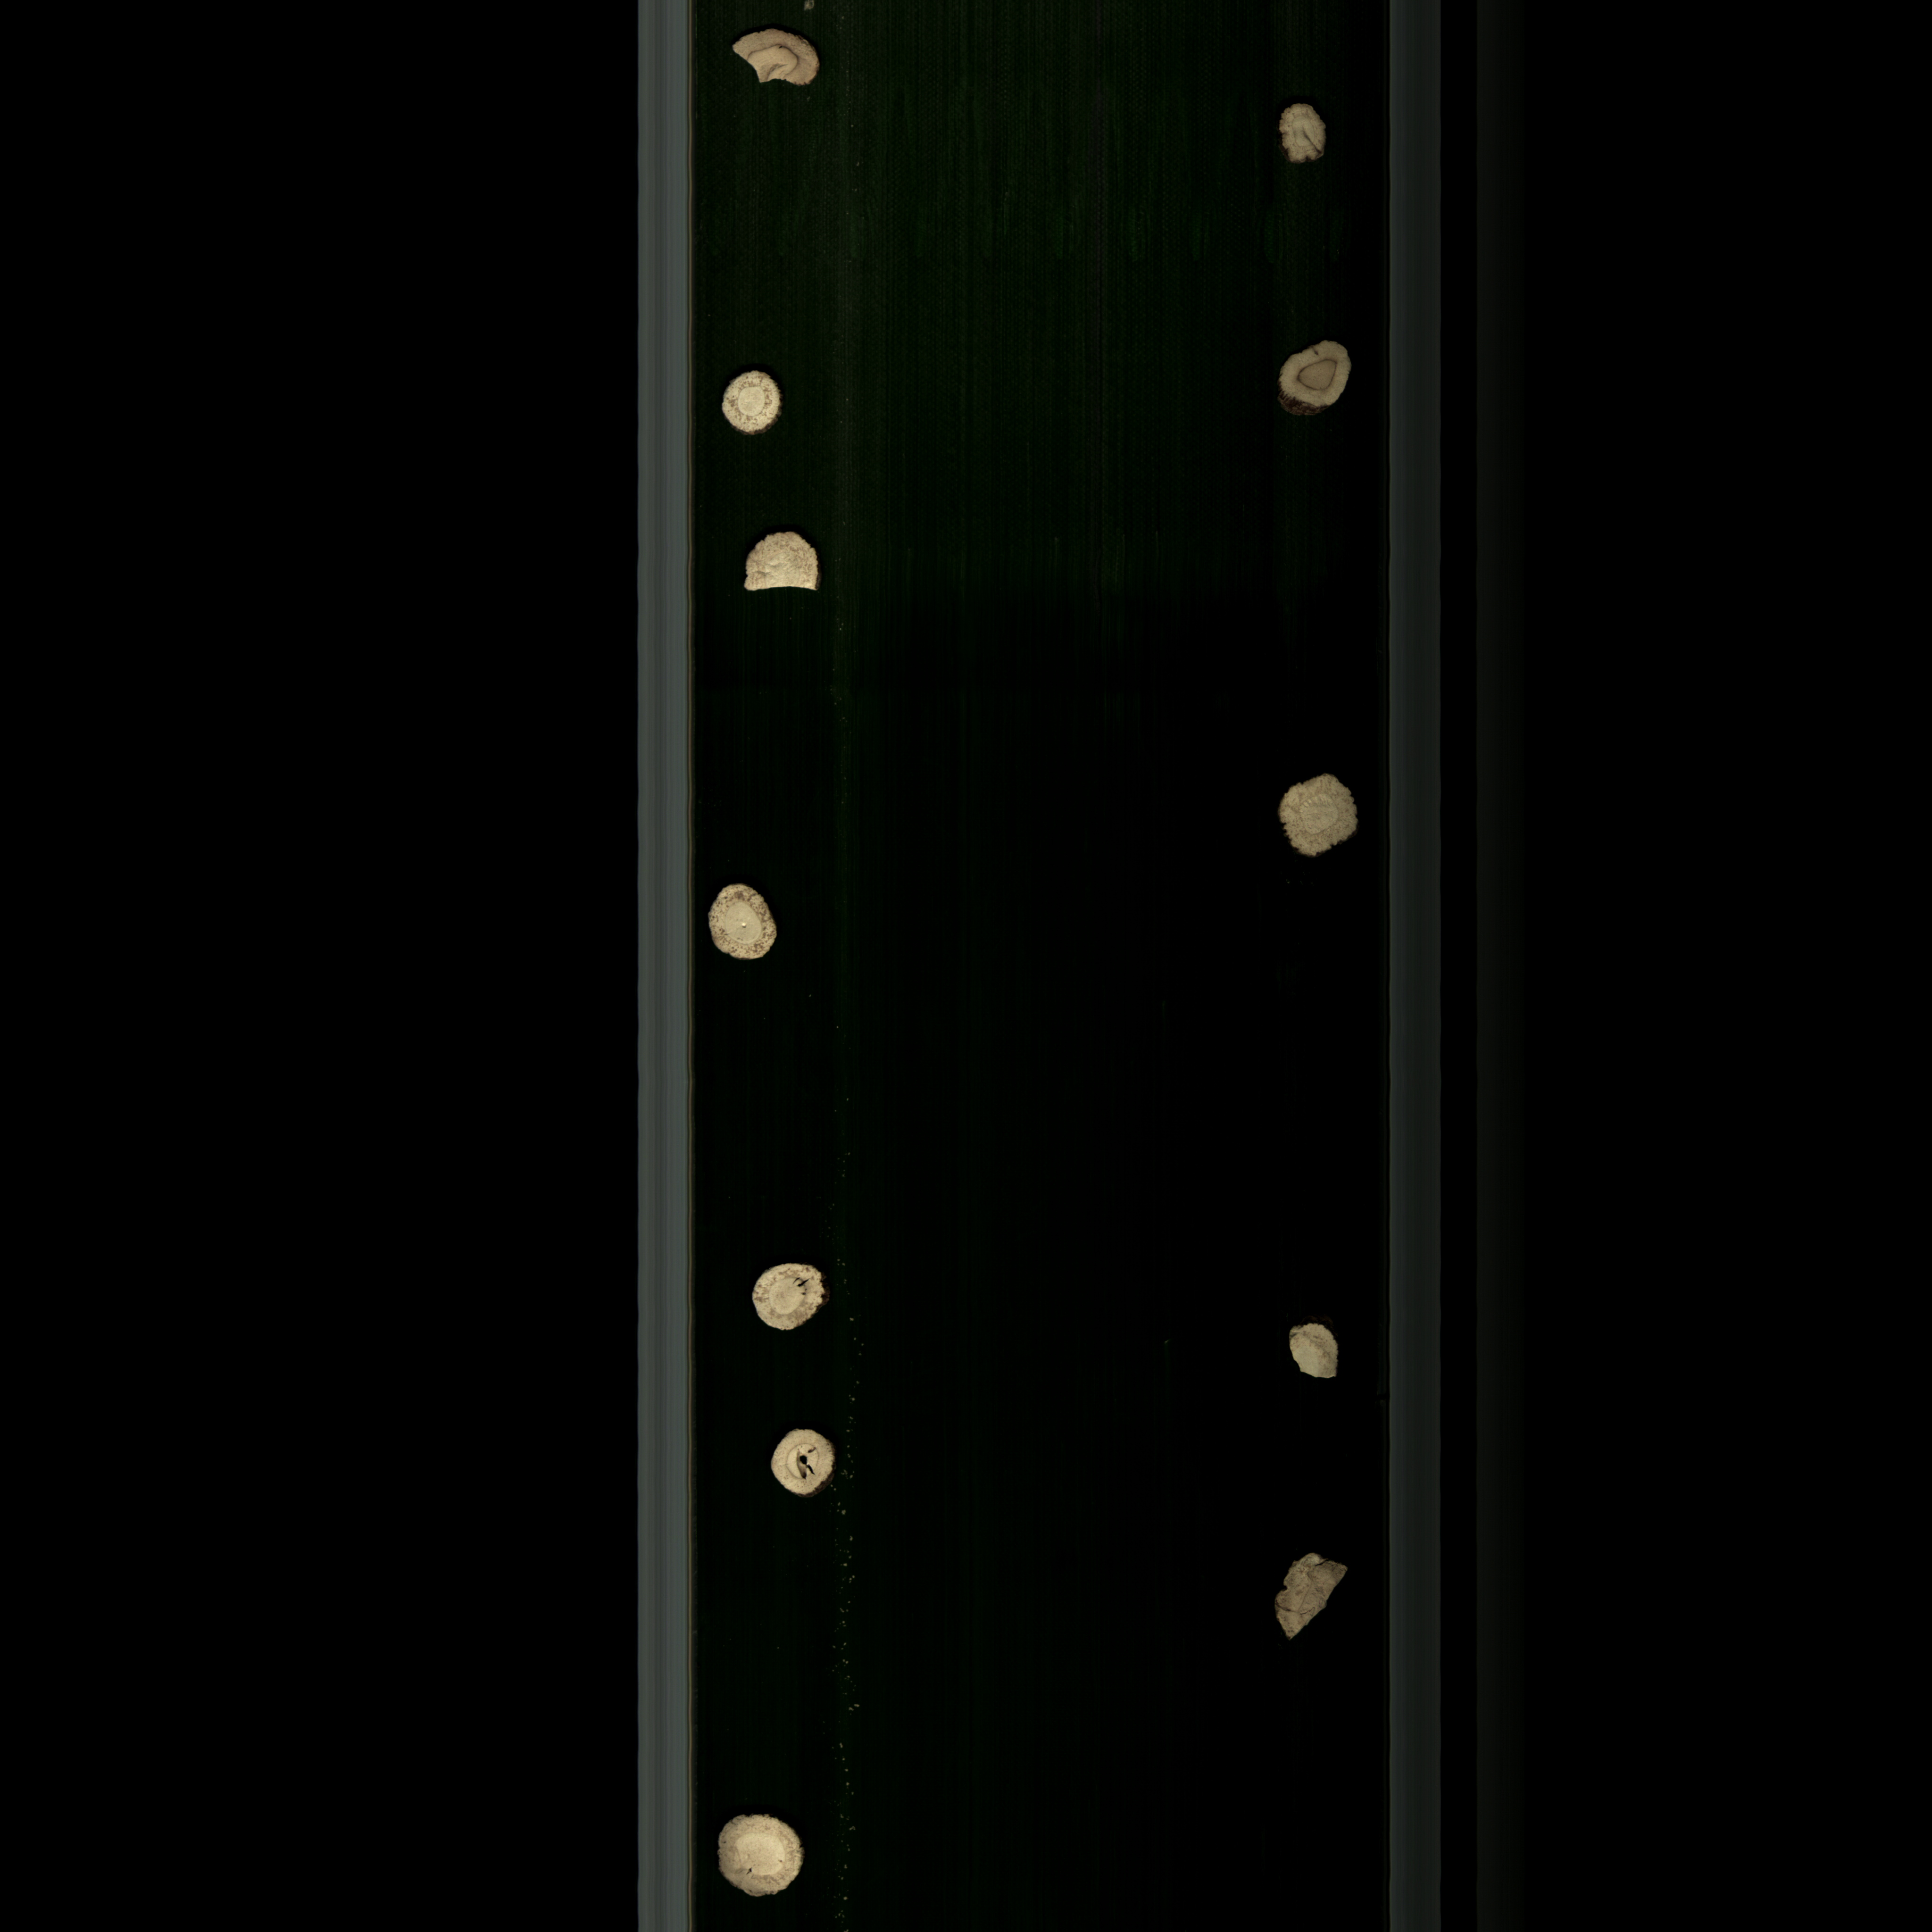debris: (729, 524, 833, 609), (1274, 1316, 1359, 1403)
hole: (740, 1246, 844, 1345), (757, 1419, 842, 1514)
moldy: (706, 28, 862, 106), (1260, 766, 1366, 867), (699, 878, 794, 982), (1265, 1543, 1353, 1649), (1261, 333, 1362, 425), (1270, 96, 1341, 177)
